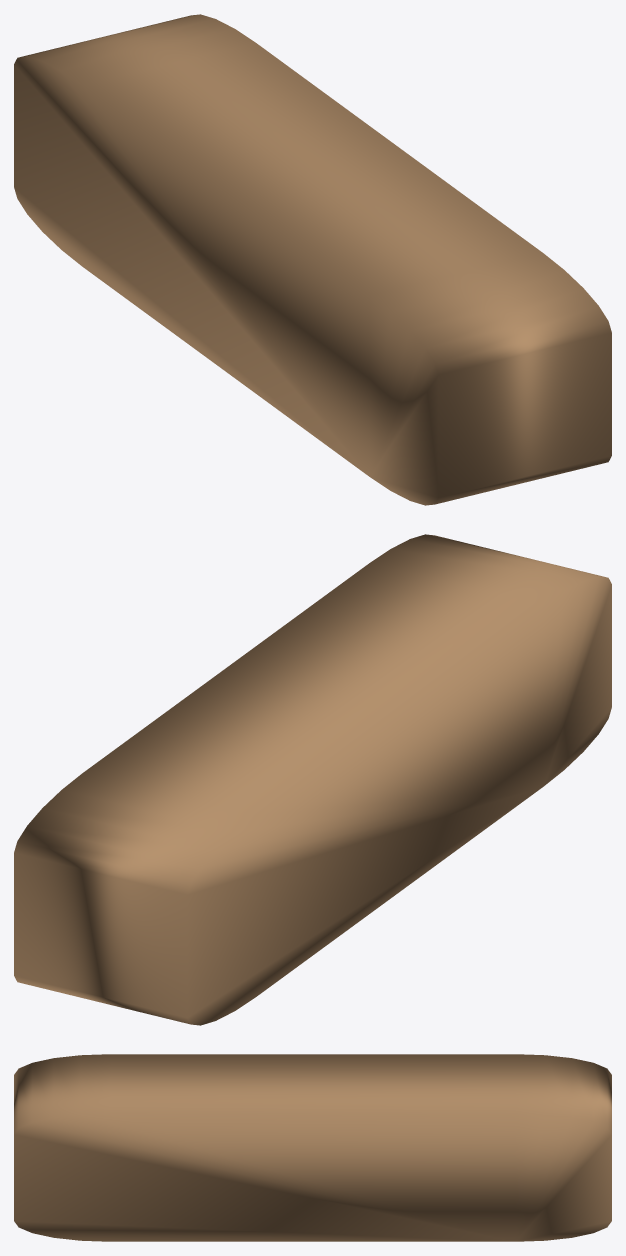
File: BtnBgUI.fbx
3 renders of one model, top to bottom at view 1: azimuth 30°, elevation 25°; view 2: azimuth 150°, elevation 25°; view 3: azimuth 270°, elevation 25°, orthographic. The views are drawn at different scales.
Parts seen in each view (by area): view 1: Cube.001; view 2: Cube.001; view 3: Cube.001.
Part boxes in pixels (x1,y1,x2,y2): Cube.001: (14, 14, 611, 505); Cube.001: (14, 534, 611, 1025); Cube.001: (14, 1054, 611, 1241).
Bounding box in the file's own units: 200 × 200 × 847.
